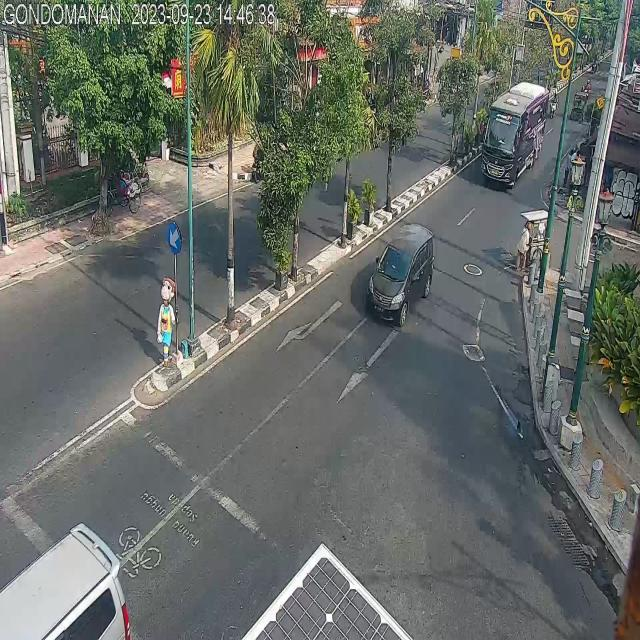bus: (478, 89, 551, 193)
car: (0, 505, 147, 640), (367, 228, 436, 323)
